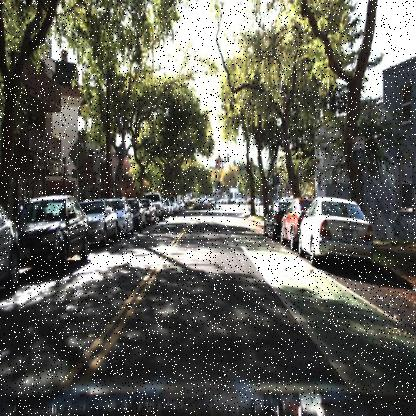car: (14, 192, 88, 277), (297, 196, 375, 264), (78, 199, 119, 248), (0, 201, 20, 298), (278, 197, 316, 248), (112, 194, 134, 238), (264, 203, 284, 240), (129, 196, 146, 231), (138, 195, 157, 222), (147, 192, 163, 222)
